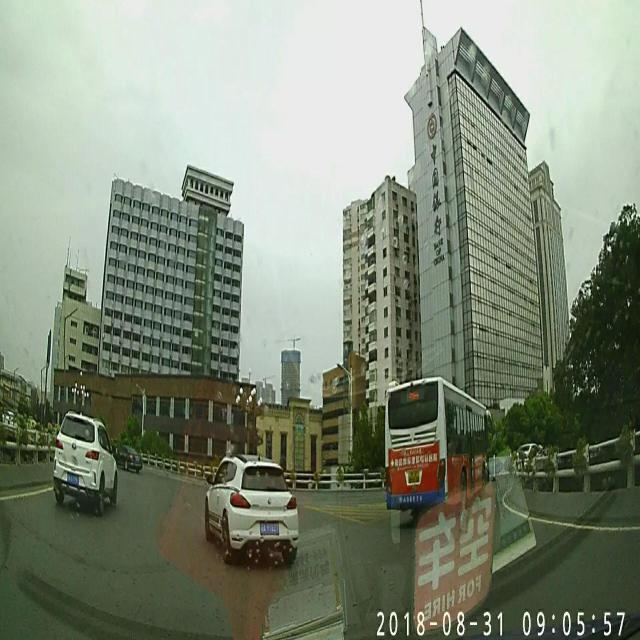car: (204, 458, 298, 565), (58, 410, 116, 506)
